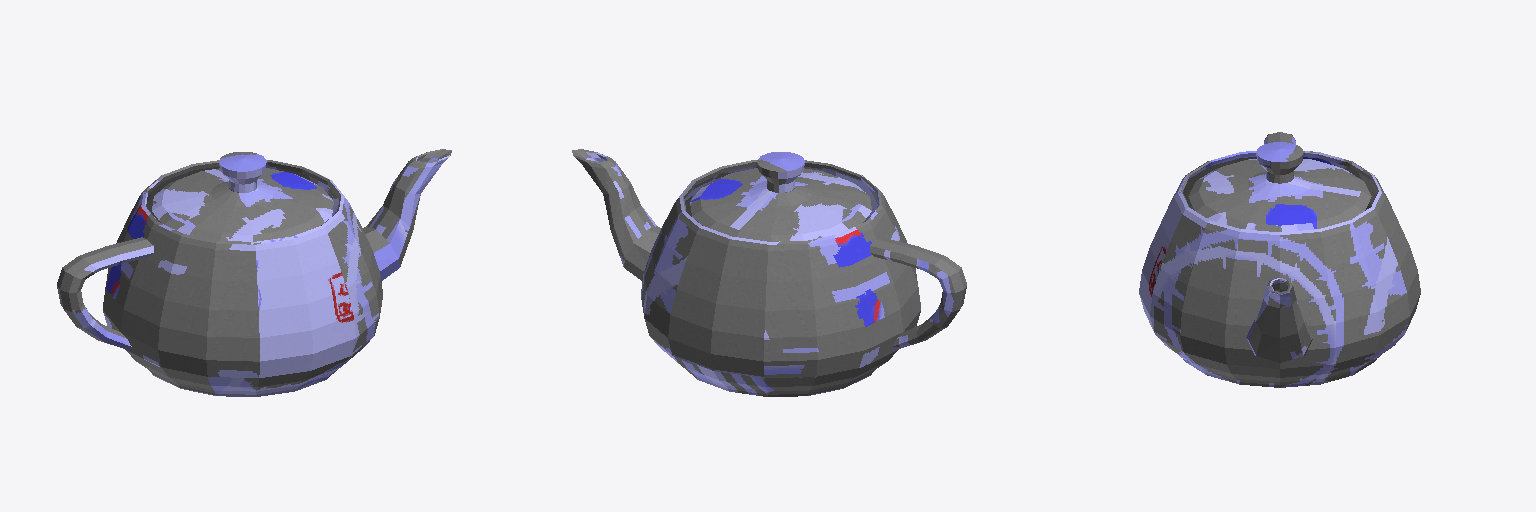
3 views of the same model, side by side, from view 1: azimuth 30°, elevation 25°; view 2: azimuth 150°, elevation 25°; view 3: azimuth 270°, elevation 25° (orthographic).
Visible parts, largest first — view 1: Teapot001; view 2: Teapot001; view 3: Teapot001.
Boxes of the visible parts, x1,y1,x2,y2 form: Teapot001: [57, 149, 451, 396]; Teapot001: [572, 149, 966, 396]; Teapot001: [1139, 132, 1420, 387].
Size of the model in its own units: 67.4 by 33.03 by 41.94.
1 materials, 1 textured.